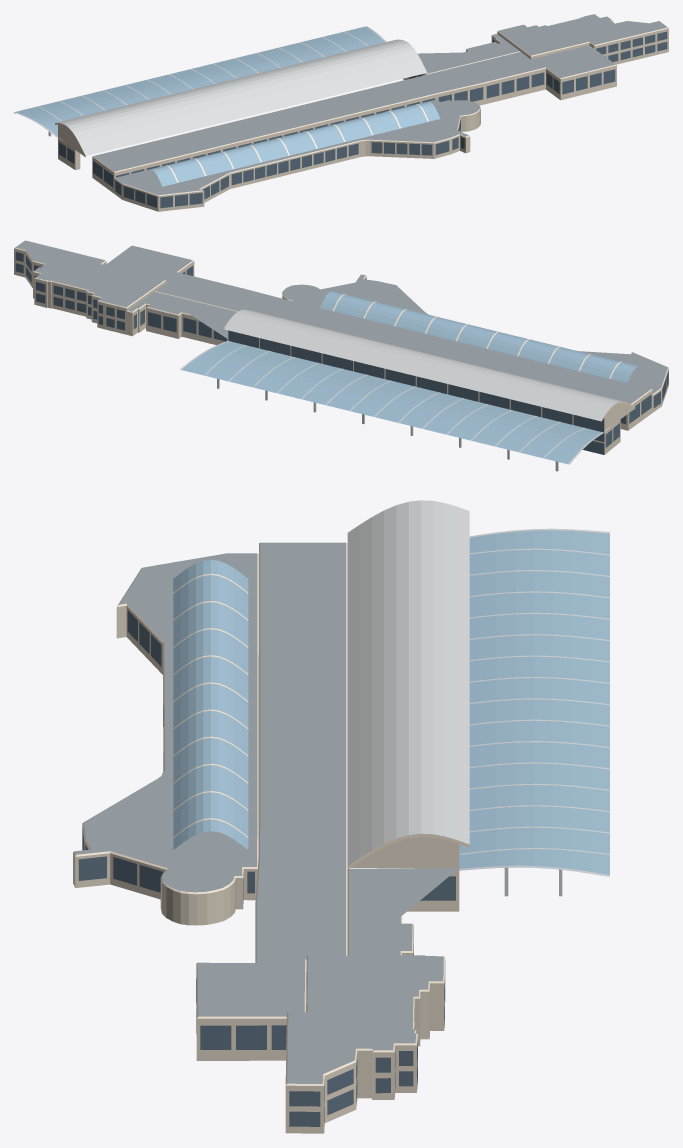
The model's file is clt-terminal.glb.
3 views of the same model, one above another, from view 1: azimuth 30°, elevation 25°; view 2: azimuth 150°, elevation 25°; view 3: azimuth 270°, elevation 25° (orthographic). The views are drawn at different scales.
Visible parts, largest first — view 1: Charlotte Douglas International Airport Terminal; view 2: Charlotte Douglas International Airport Terminal; view 3: Charlotte Douglas International Airport Terminal.
Part boxes in pixels (x1,y1,x2,y2): Charlotte Douglas International Airport Terminal: [14, 14, 668, 211]; Charlotte Douglas International Airport Terminal: [14, 240, 668, 471]; Charlotte Douglas International Airport Terminal: [73, 500, 609, 1133].
Bounding box in the file's own units: 442 × 28.98 × 179.
